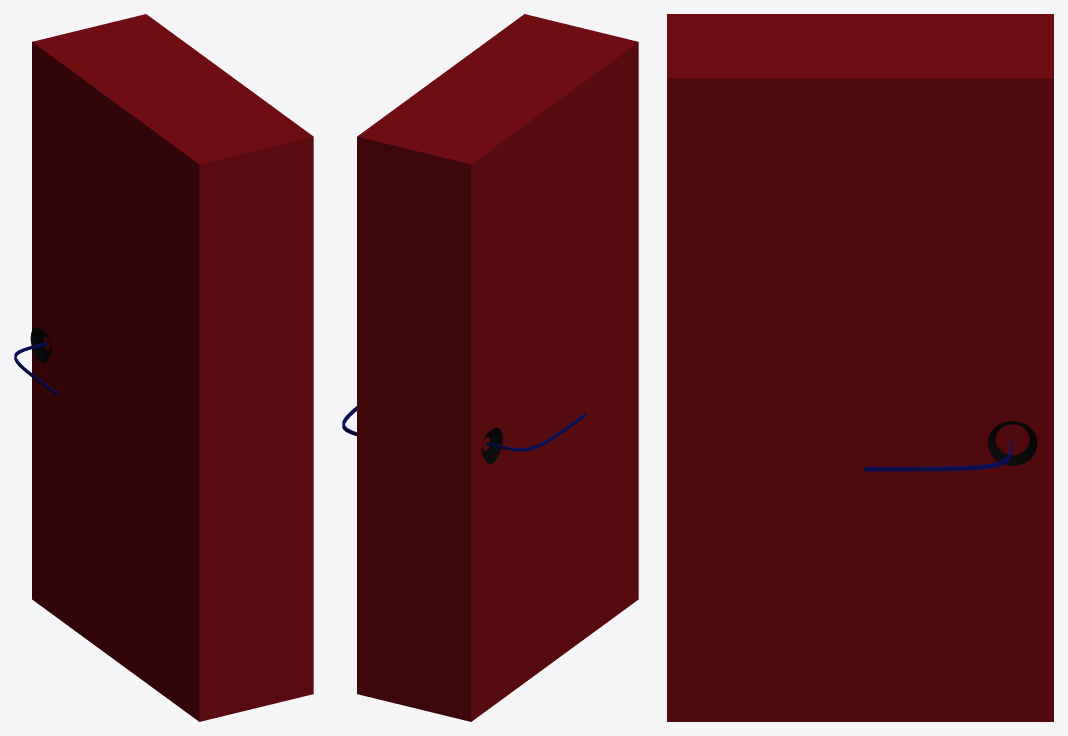
Rendered from EvidenceRoomDoor.fbx.
3 views of the same model, side by side, from view 1: azimuth 30°, elevation 25°; view 2: azimuth 150°, elevation 25°; view 3: azimuth 270°, elevation 25° (orthographic). The views are drawn at different scales.
Visible parts, largest first — view 1: RightDoorER; view 2: RightDoorER; view 3: RightDoorER.
Boxes of the visible parts, x1,y1,x2,y2 form: RightDoorER: (14,14,313,721); RightDoorER: (342,14,638,721); RightDoorER: (667,14,1053,721).
Size of the model in its own units: 84.34 by 218 by 119.
